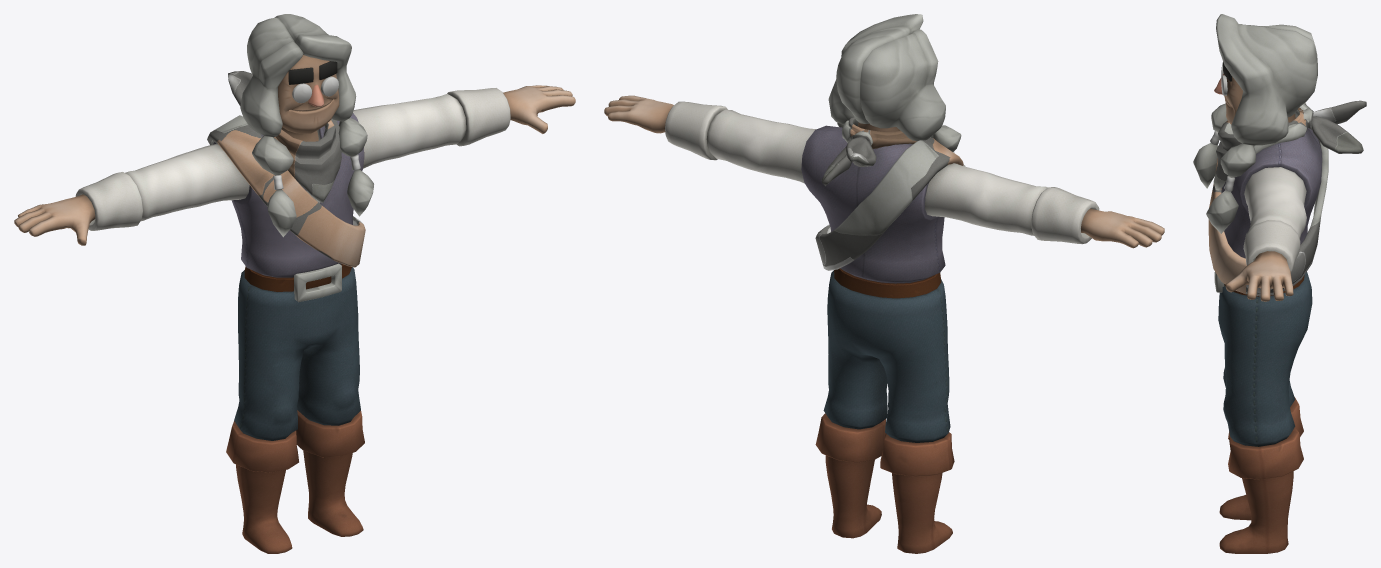
File: mooshum.fbx
The picture shows the model from 3 angles, left to right: view 1: azimuth 30°, elevation 25°; view 2: azimuth 150°, elevation 25°; view 3: azimuth 270°, elevation 25°; orthographic projection.
Parts seen in each view (by area): view 1: mooshum; view 2: mooshum; view 3: mooshum.
Part boxes in pixels (bbox=[...]): mooshum: bbox=[14, 14, 575, 553]; mooshum: bbox=[604, 14, 1164, 553]; mooshum: bbox=[1193, 14, 1366, 553].
Bounding box in the file's own units: 101 × 89.45 × 27.66.
Materials: 2 (2 with a texture image).
